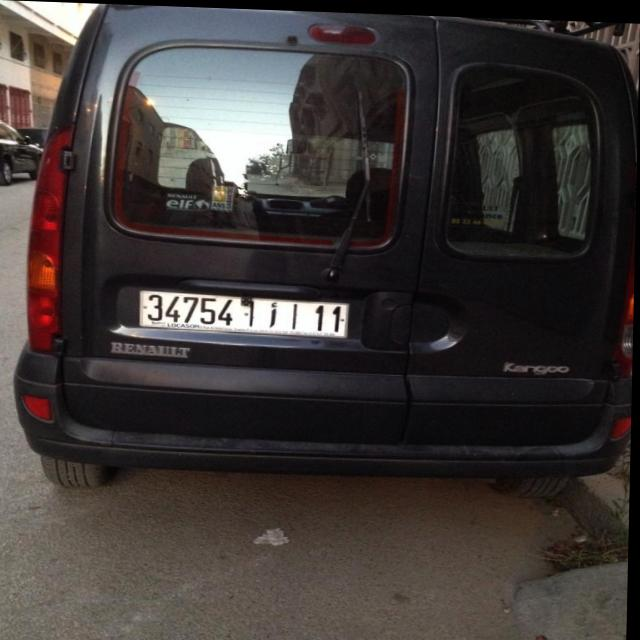License-Plate: (141, 289, 350, 335)
